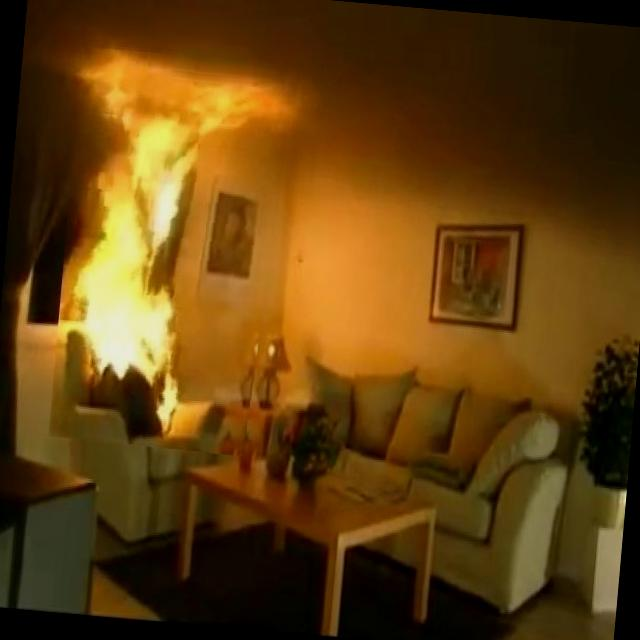fire: (58, 62, 255, 386)
smoke: (290, 0, 640, 235)
